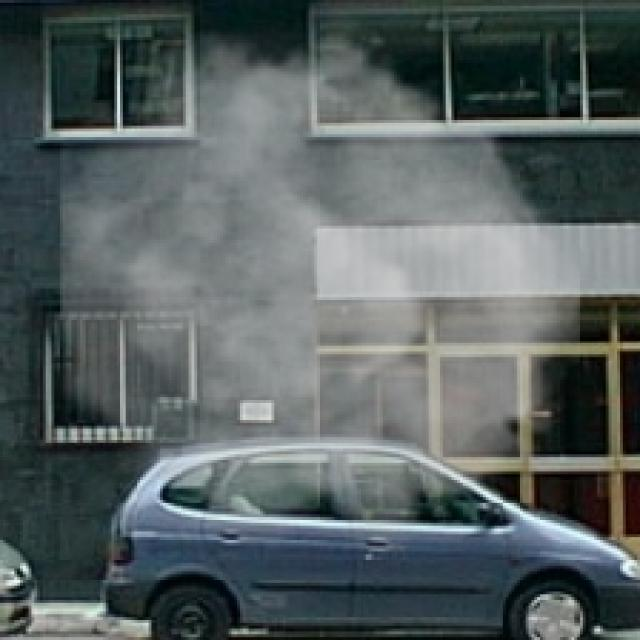smoke: (60, 11, 580, 560)
